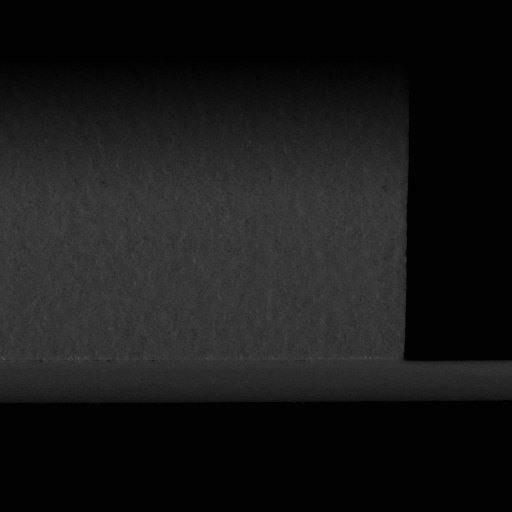changdai: (399, 359, 508, 395)
